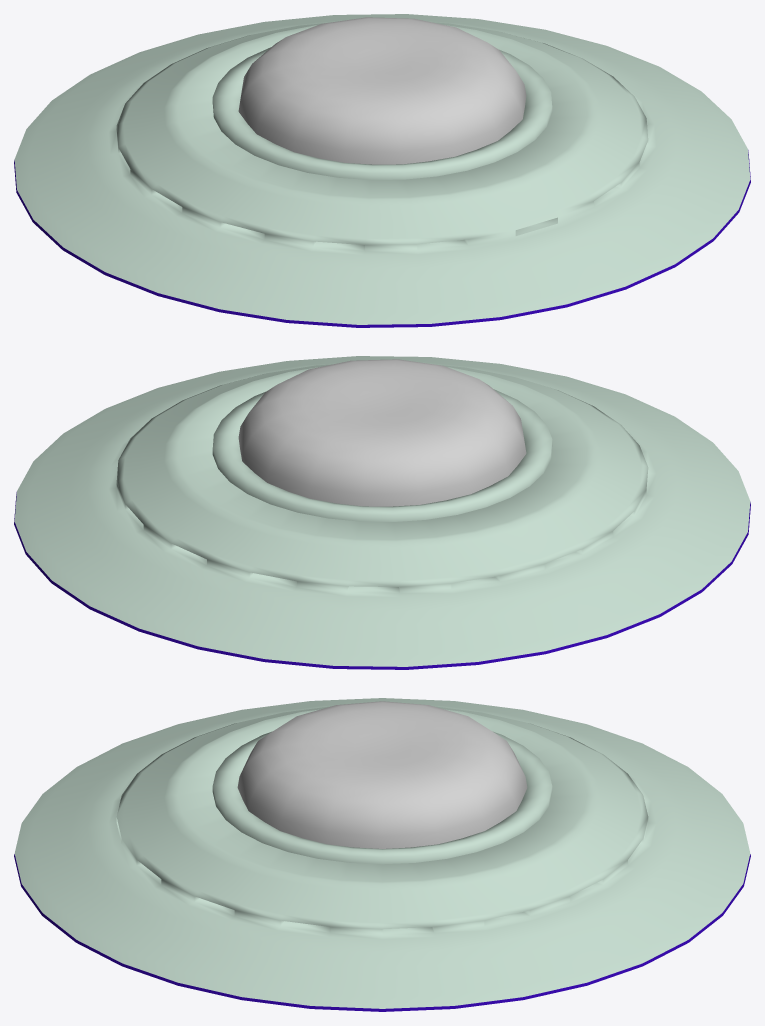
File: Unity HD Render Pipeline (Metallic Standard).fbx
3 views of the same model, one above another, from view 1: azimuth 30°, elevation 25°; view 2: azimuth 150°, elevation 25°; view 3: azimuth 270°, elevation 25° (orthographic).
Parts seen in each view (by area): view 1: Sphere.003, Sphere.002, Sphere.001; view 2: Sphere.003, Sphere.002, Sphere.001; view 3: Sphere.003, Sphere.002, Sphere.001.
Boxes of the visible parts, bbox=[...] form: Sphere.003: bbox=[14, 14, 750, 324]; Sphere.002: bbox=[238, 17, 526, 164]; Sphere.001: bbox=[14, 150, 750, 327]; Sphere.003: bbox=[14, 356, 750, 666]; Sphere.002: bbox=[238, 359, 526, 506]; Sphere.001: bbox=[14, 492, 750, 669]; Sphere.003: bbox=[14, 698, 750, 1008]; Sphere.002: bbox=[237, 701, 527, 848]; Sphere.001: bbox=[14, 854, 750, 1011].
Bounding box in the file's own units: 533 × 128 × 533.
